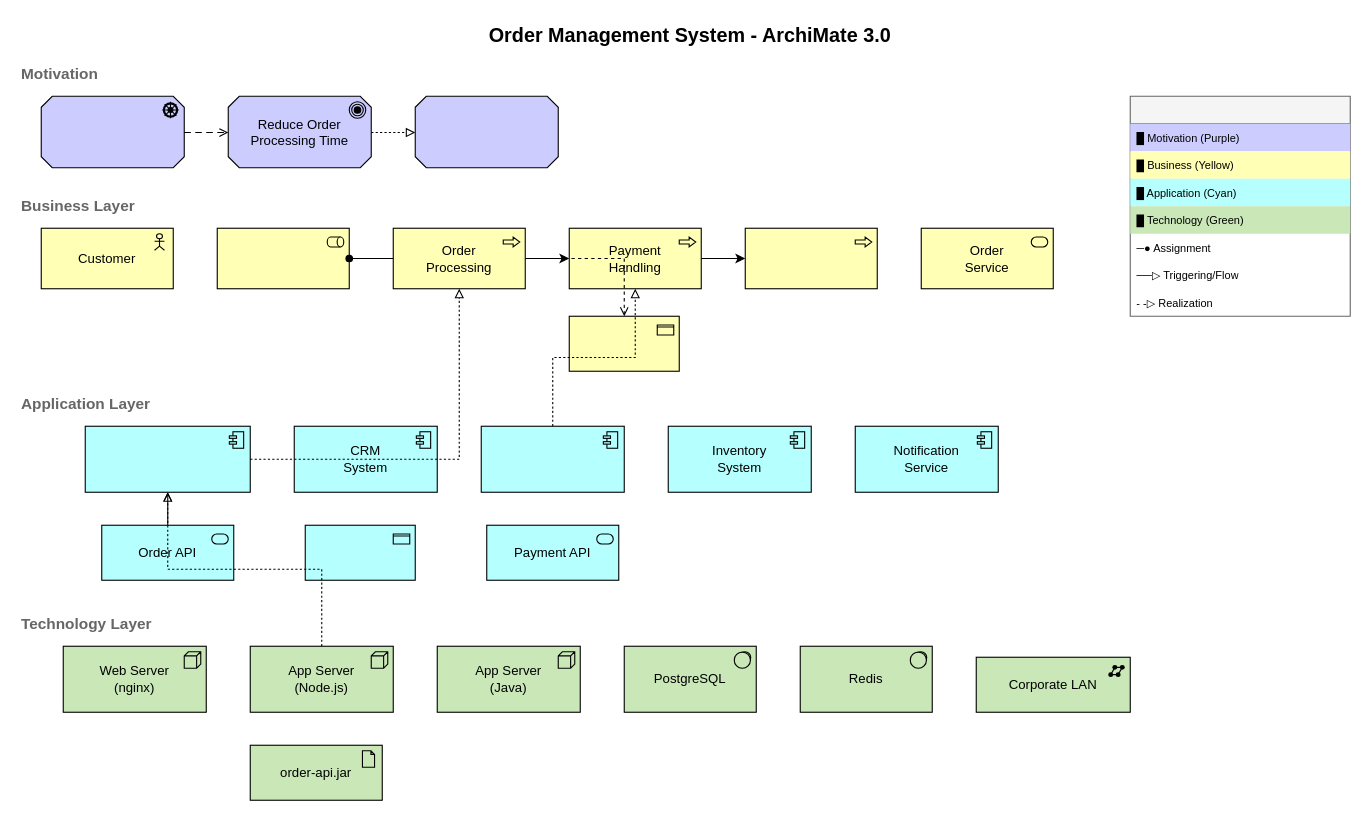
This 1370x820 diagram has some shape labels left out. The box of each missing label's shape, as (x1, y1, x2, y2) in pixels:
ArchiMate 3.0 Legend: (1129, 95, 1350, 316)
Fulfillment: (744, 227, 877, 289)
Increase Customer Satisfaction: (40, 95, 184, 168)
Order: (568, 315, 679, 371)
Order Data: (304, 524, 415, 580)
Order Management Application: (84, 425, 250, 492)
Order Manager: (216, 227, 349, 289)
Payment Gateway: (480, 425, 624, 492)
Real-time Order Tracking: (414, 95, 558, 168)
